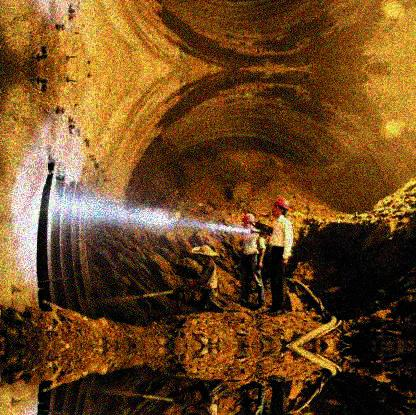helmet: (191, 245, 219, 263), (271, 197, 287, 218), (242, 213, 256, 228)
